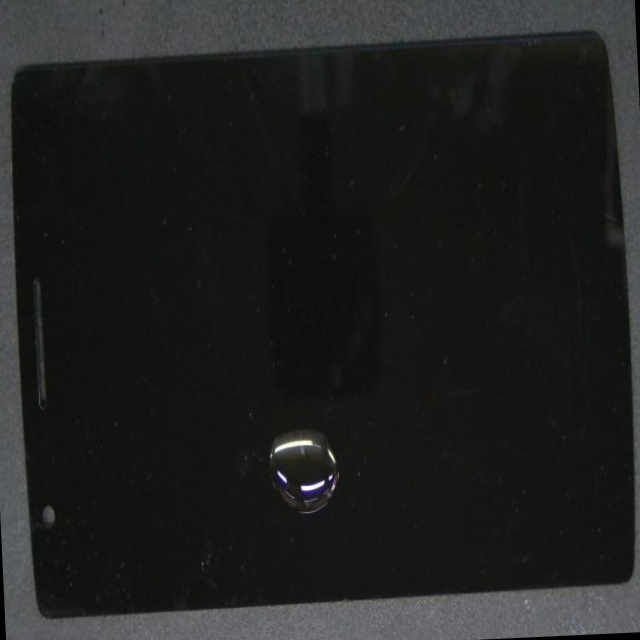oil: (165, 223, 516, 640)
